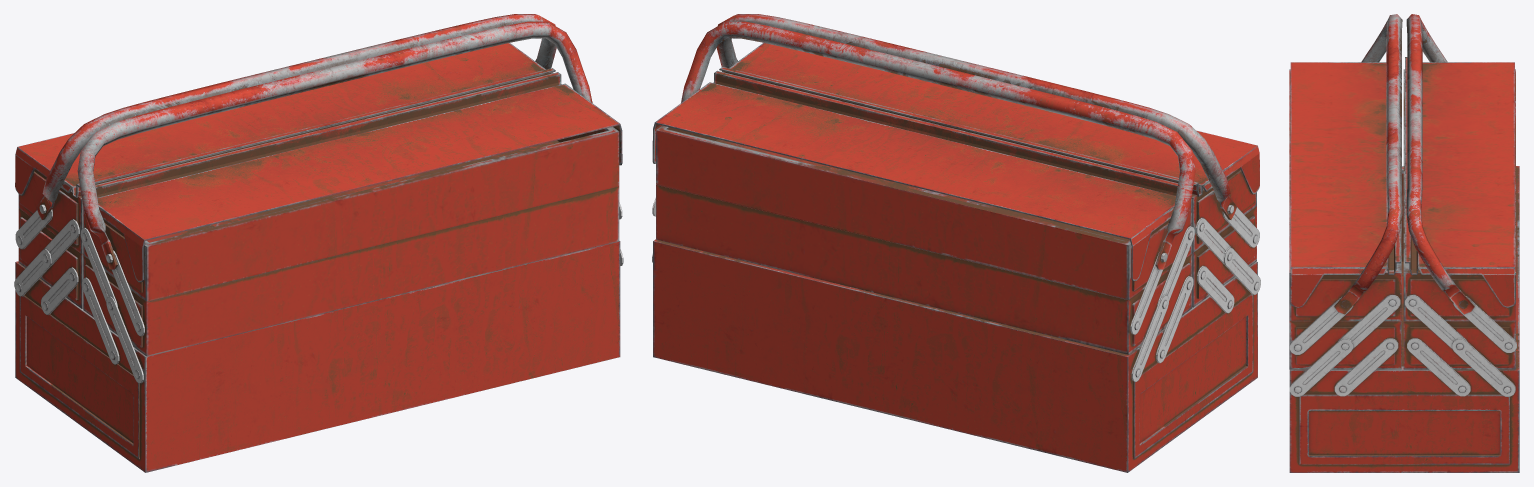
File: caja cerrada n1.fbx
3 views of the same model, side by side, from view 1: azimuth 30°, elevation 25°; view 2: azimuth 150°, elevation 25°; view 3: azimuth 270°, elevation 25° (orthographic). The views are drawn at different scales.
Parts seen in each view (by area): view 1: pCube1_Caja_02_0, polySurface50_Caja_03_0, pCube8_Caja_01_0, pCube5_Caja_01_0, polySurface52_Caja_03_0, pCube7_Caja_01_0, pCube6_Caja_01_0, polySurface60_Caja_04_0, polySurface66_Caja_04_0, polySurface78_Caja_04_0, polySurface72_Caja_04_0, polySurface69_Caja_04_0 (+3 smaller); view 2: pCube1_Caja_02_0, polySurface50_Caja_03_0, pCube7_Caja_01_0, pCube6_Caja_01_0, polySurface52_Caja_03_0, pCube8_Caja_01_0, pCube5_Caja_01_0, polySurface72_Caja_04_0, polySurface78_Caja_04_0, polySurface66_Caja_04_0, polySurface60_Caja_04_0, polySurface75_Caja_04_0 (+3 smaller); view 3: polySurface50_Caja_03_0, pCube1_Caja_02_0, polySurface52_Caja_03_0, pCube7_Caja_01_0, pCube8_Caja_01_0, pCube6_Caja_01_0, pCube5_Caja_01_0, polySurface84_Caja_04_0, polySurface90_Caja_04_0, polySurface102_Caja_04_0, polySurface96_Caja_04_0, polySurface99_Caja_04_0 (+3 smaller).
Part boxes in pixels (box(x1,y1,x2,y2)): pCube1_Caja_02_0: box(15, 241, 620, 472); polySurface50_Caja_03_0: box(15, 43, 622, 282); pCube8_Caja_01_0: box(83, 127, 619, 301); pCube5_Caja_01_0: box(83, 186, 619, 356); polySurface52_Caja_03_0: box(36, 14, 592, 269); pCube7_Caja_01_0: box(18, 169, 83, 253); pCube6_Caja_01_0: box(18, 208, 83, 308); polySurface60_Caja_04_0: box(106, 296, 143, 383); polySurface66_Caja_04_0: box(82, 277, 119, 364); polySurface78_Caja_04_0: box(41, 267, 78, 314); polySurface72_Caja_04_0: box(14, 249, 51, 296); polySurface69_Caja_04_0: box(112, 250, 144, 336); pCube1_Caja_02_0: box(653, 239, 1257, 472); polySurface50_Caja_03_0: box(652, 43, 1259, 280); pCube7_Caja_01_0: box(656, 125, 1192, 299); pCube6_Caja_01_0: box(656, 185, 1192, 354); polySurface52_Caja_03_0: box(681, 14, 1236, 269); pCube8_Caja_01_0: box(1191, 168, 1256, 252); pCube5_Caja_01_0: box(1192, 206, 1256, 307); polySurface72_Caja_04_0: box(1131, 295, 1168, 381); polySurface78_Caja_04_0: box(1156, 276, 1193, 363); polySurface66_Caja_04_0: box(1197, 266, 1234, 313); polySurface60_Caja_04_0: box(1224, 247, 1260, 294); polySurface75_Caja_04_0: box(1157, 226, 1194, 305); polySurface50_Caja_03_0: box(1290, 57, 1515, 307); pCube1_Caja_02_0: box(1289, 166, 1519, 472); polySurface52_Caja_03_0: box(1334, 14, 1474, 314); pCube7_Caja_01_0: box(1403, 69, 1515, 321); pCube8_Caja_01_0: box(1289, 69, 1401, 321); pCube6_Caja_01_0: box(1403, 321, 1515, 369); pCube5_Caja_01_0: box(1289, 321, 1401, 369); polySurface84_Caja_04_0: box(1289, 338, 1353, 396); polySurface90_Caja_04_0: box(1334, 338, 1398, 396); polySurface102_Caja_04_0: box(1407, 338, 1470, 396); polySurface96_Caja_04_0: box(1452, 338, 1515, 396); polySurface99_Caja_04_0: box(1404, 295, 1466, 348).
Bounding box in the file's own units: 104 × 59.32 × 46.48.
Materials: 4 (4 with a texture image).
